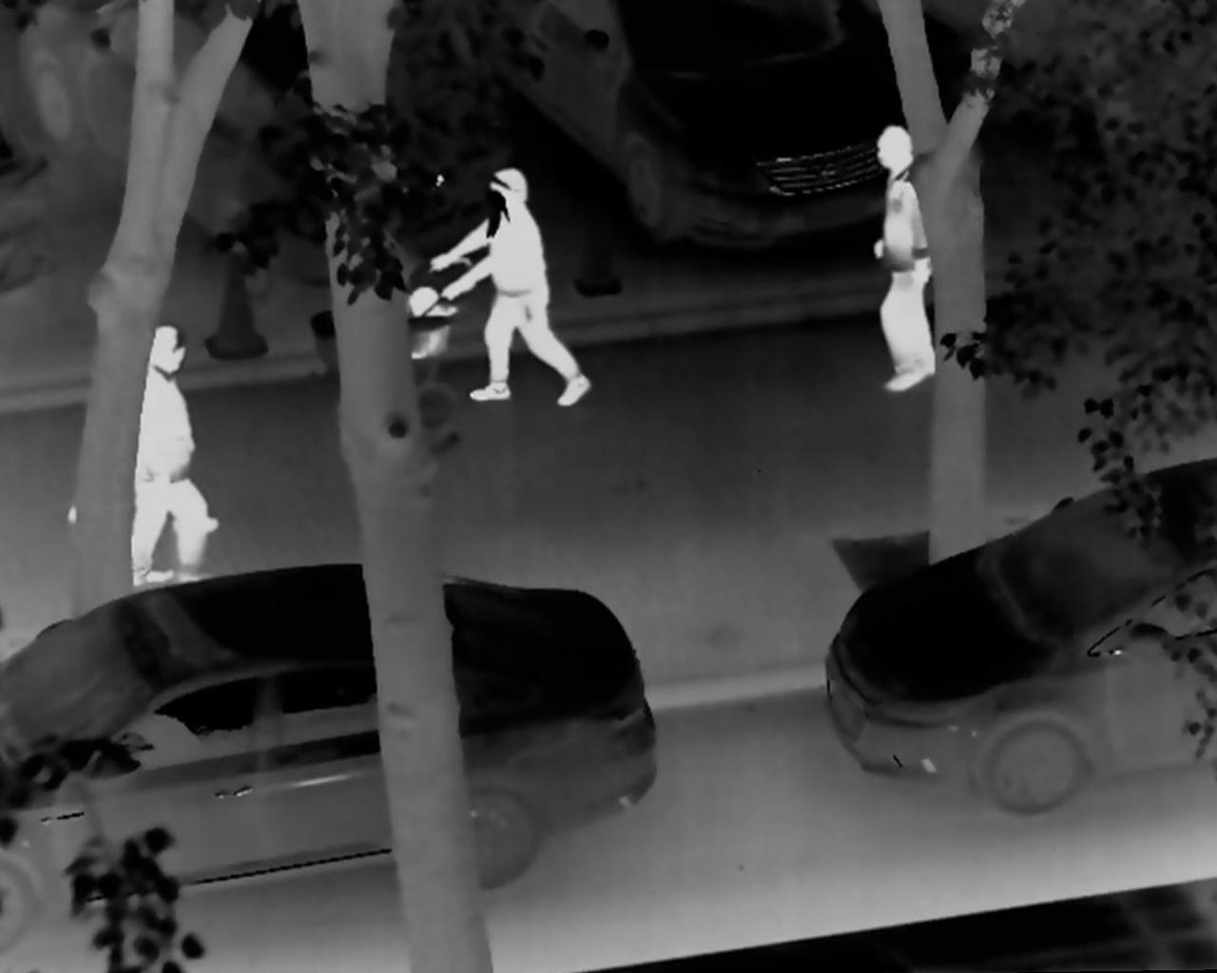person: (427, 160, 597, 415), (844, 115, 950, 395), (119, 319, 221, 594), (66, 379, 225, 538)
